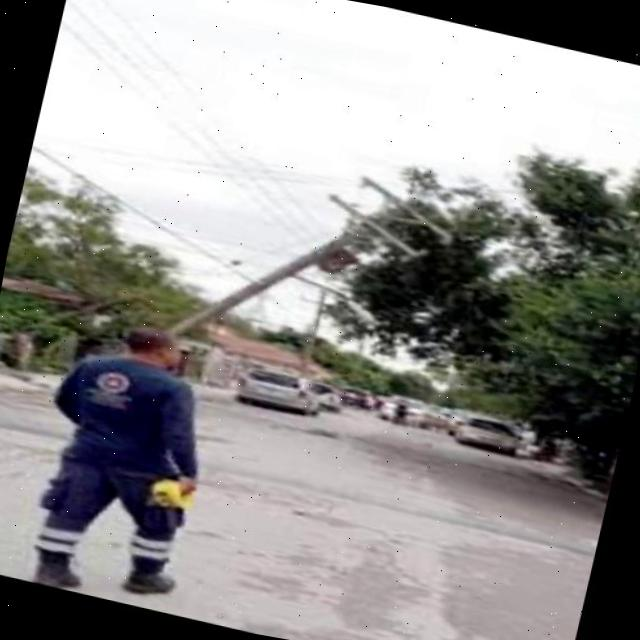Broken Pole: (161, 167, 463, 340)
